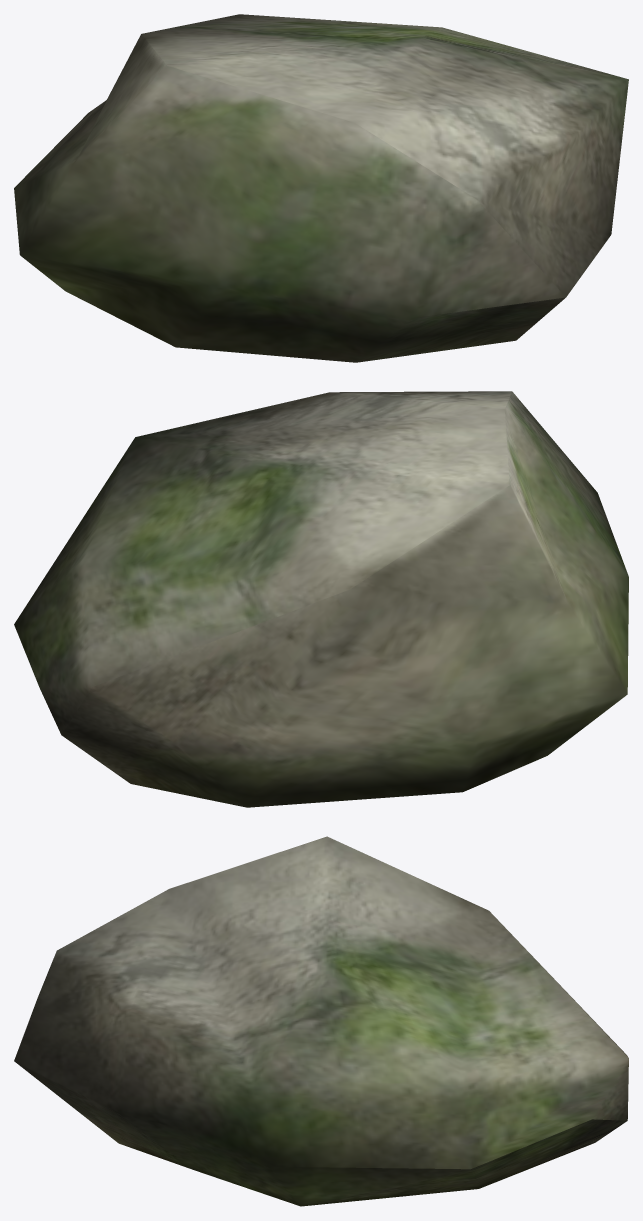
The model's file is zz_dont_use_rock_Lt_1F.fbx.
3 renders of one model, top to bottom at view 1: azimuth 30°, elevation 25°; view 2: azimuth 150°, elevation 25°; view 3: azimuth 270°, elevation 25°, orthographic. The views are drawn at different scales.
Visible parts, largest first — view 1: rock_1; view 2: rock_1; view 3: rock_1.
Boxes of the visible parts, <box> form: rock_1: <box>14,14,628,362</box>; rock_1: <box>14,391,628,807</box>; rock_1: <box>14,836,628,1206</box>.
Size of the model in its own units: 580 by 280 by 644.
Materials: 1 (1 with a texture image).
